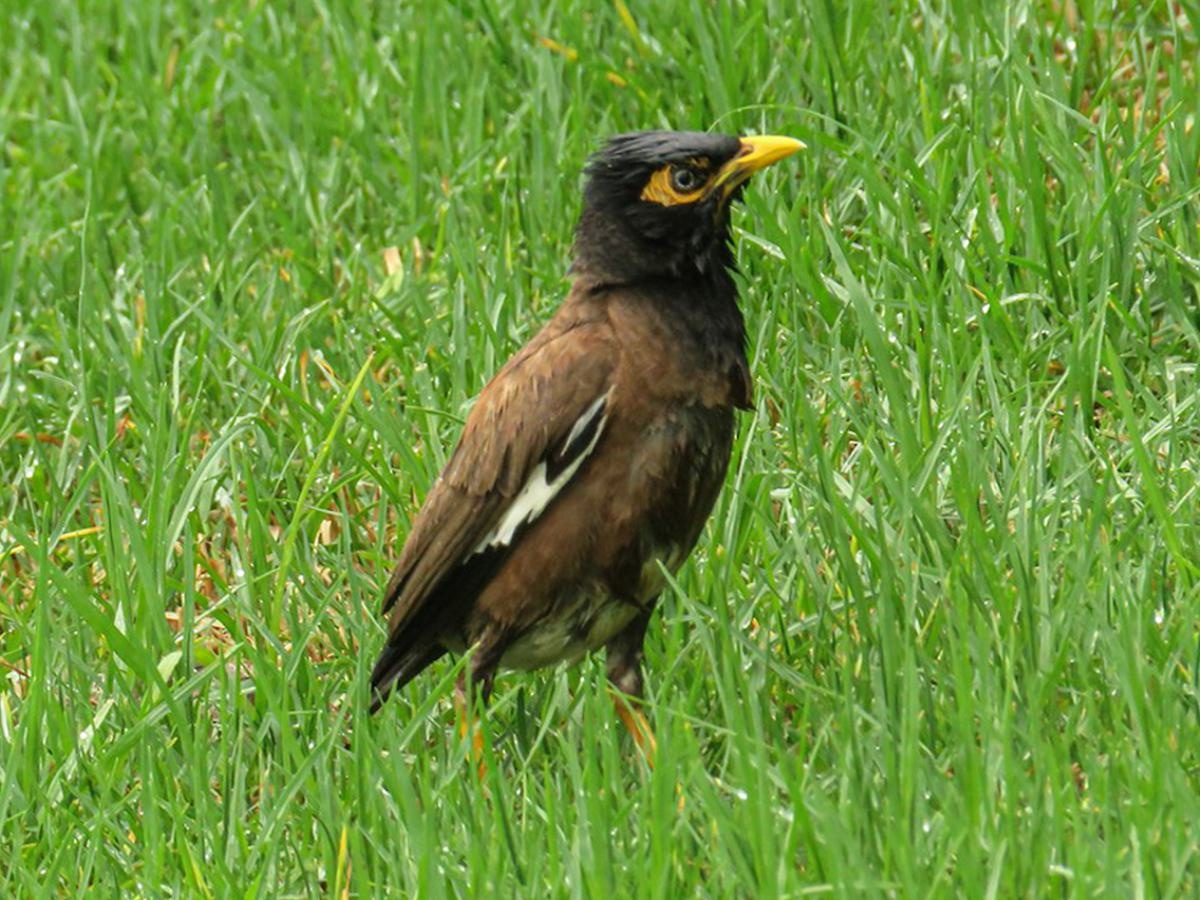myna: (401, 106, 808, 675)
